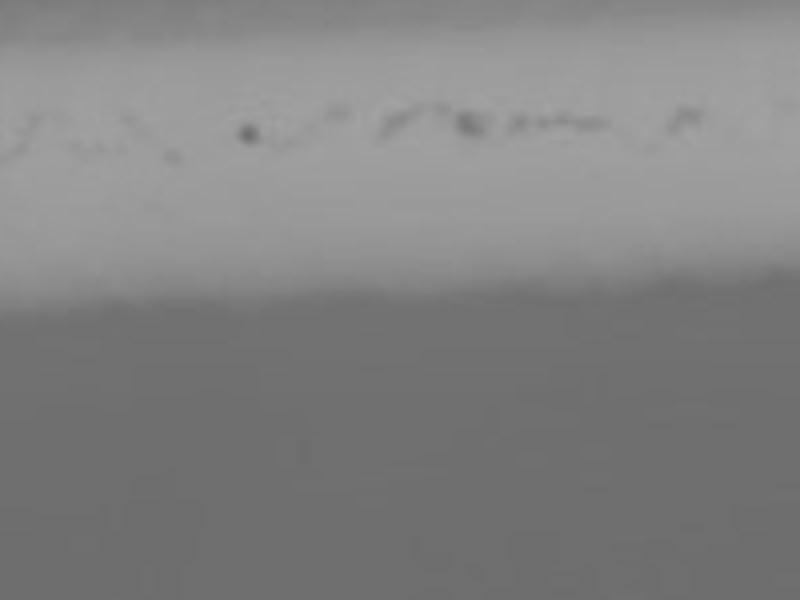defect: (659, 100, 703, 138), (554, 109, 613, 132), (374, 109, 413, 137), (458, 110, 492, 140), (322, 98, 350, 124), (237, 121, 263, 148), (163, 145, 189, 171), (507, 111, 528, 135), (433, 93, 453, 113), (531, 114, 549, 133)
